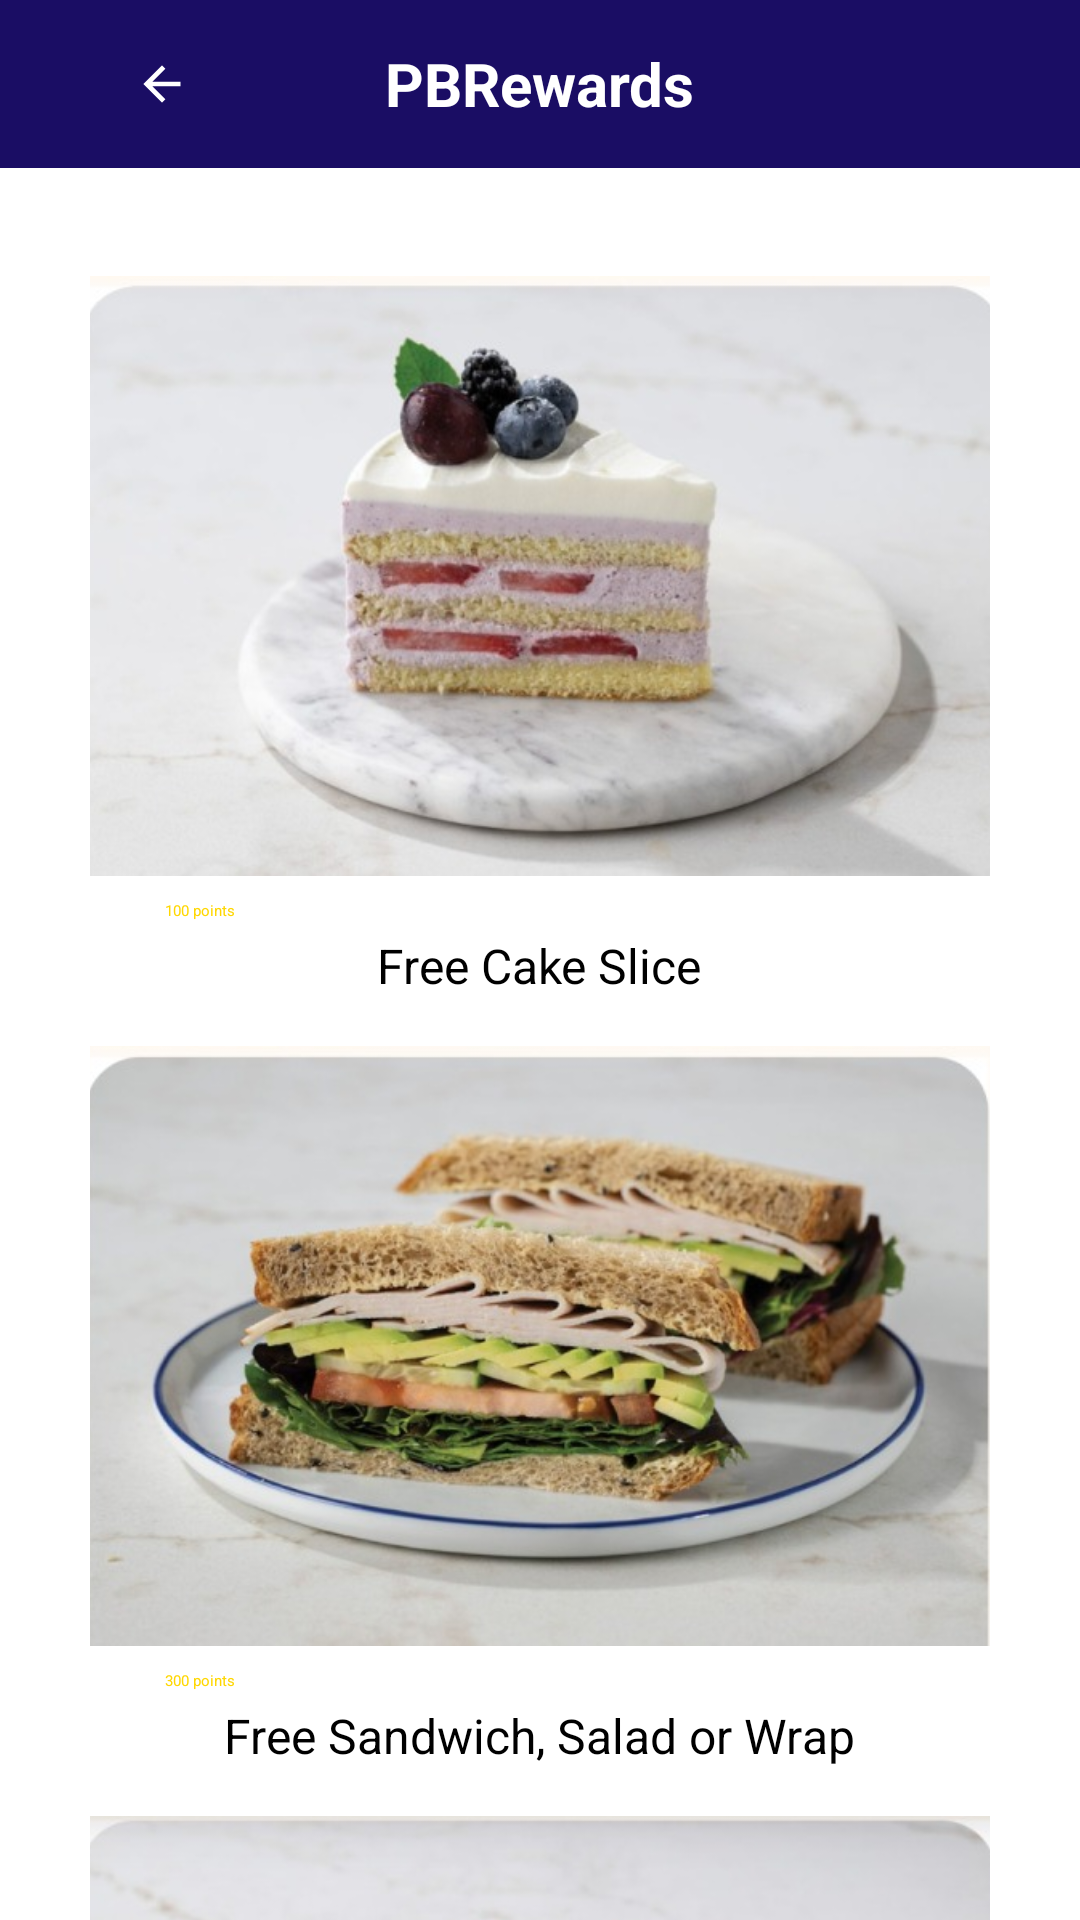

Locate icon controls on the screen. Image size 1080 × 1920, boxes as [x1,y1,x2,y2].
Back: [143,65,181,103]
